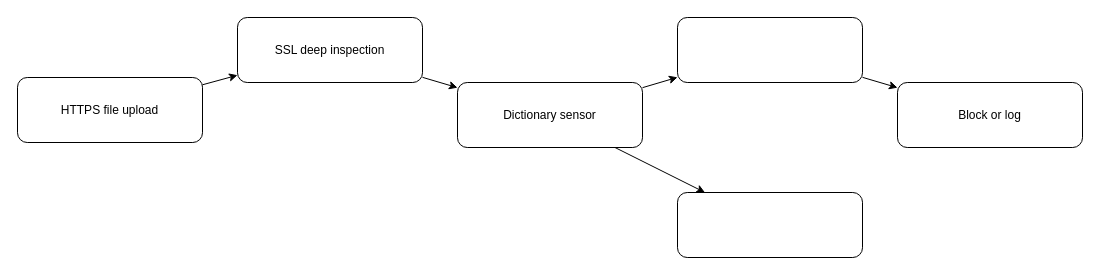
Some shapes in this 1100 by 275 pixel diagram are drawn without their labels. Here are the shapes that lost their labels. From the top down, the centre of each, then its label:
At pixel 769 49: "DLP protocol rule".
At pixel 769 225: "Encrypted bypass".
